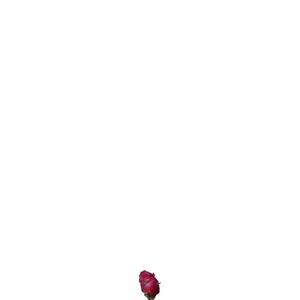pitaia: (139, 270, 160, 300)
